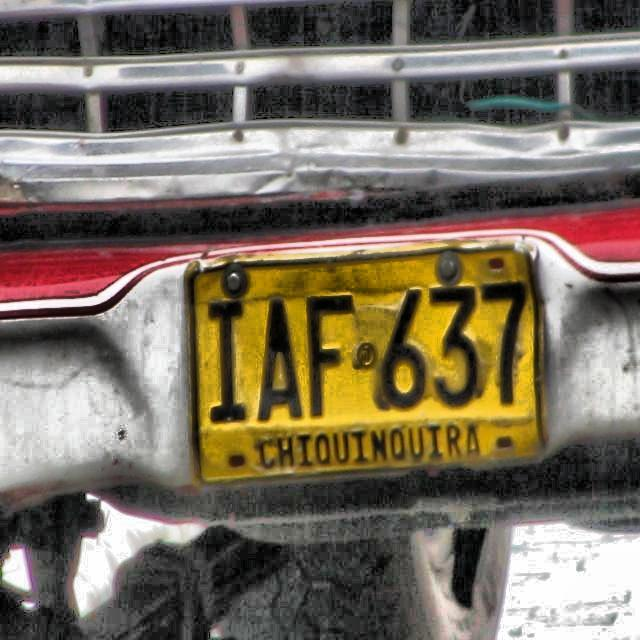plate: (183, 241, 551, 490)
